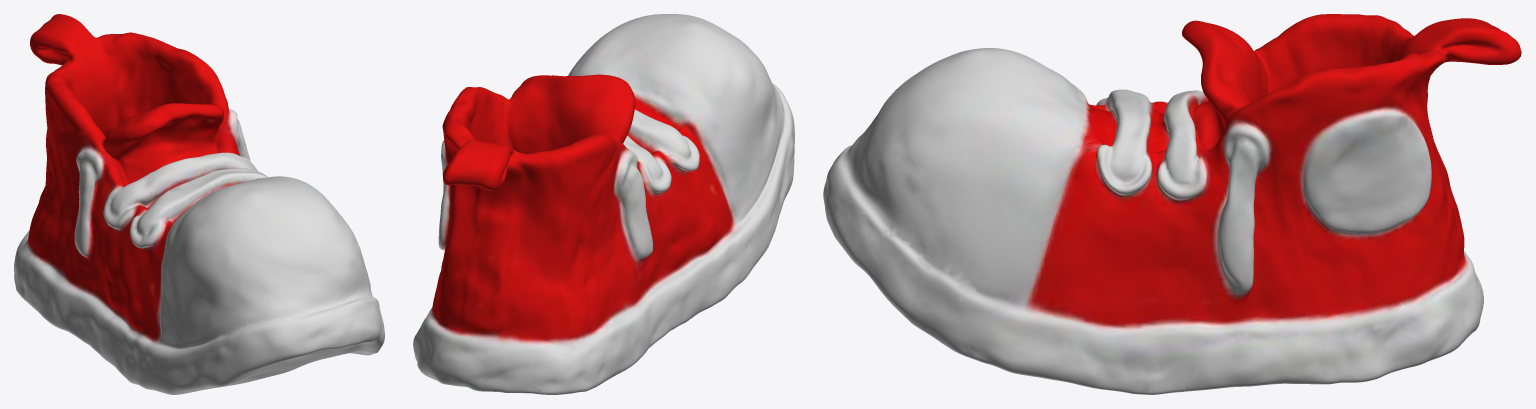
The model's file is red-claymation-shoe.glb.
3 views of the same model, side by side, from view 1: azimuth 30°, elevation 25°; view 2: azimuth 150°, elevation 25°; view 3: azimuth 270°, elevation 25° (orthographic). The views are drawn at different scales.
Parts seen in each view (by area): view 1: clayshoe 5; view 2: clayshoe 5; view 3: clayshoe 5.
Boxes of the visible parts, <box> form: clayshoe 5: <box>14,14,384,394</box>; clayshoe 5: <box>413,14,794,394</box>; clayshoe 5: <box>823,14,1521,394</box>.
Bounding box in the file's own units: 32.56 × 37.39 × 77.15.
1 material, 1 textured.
